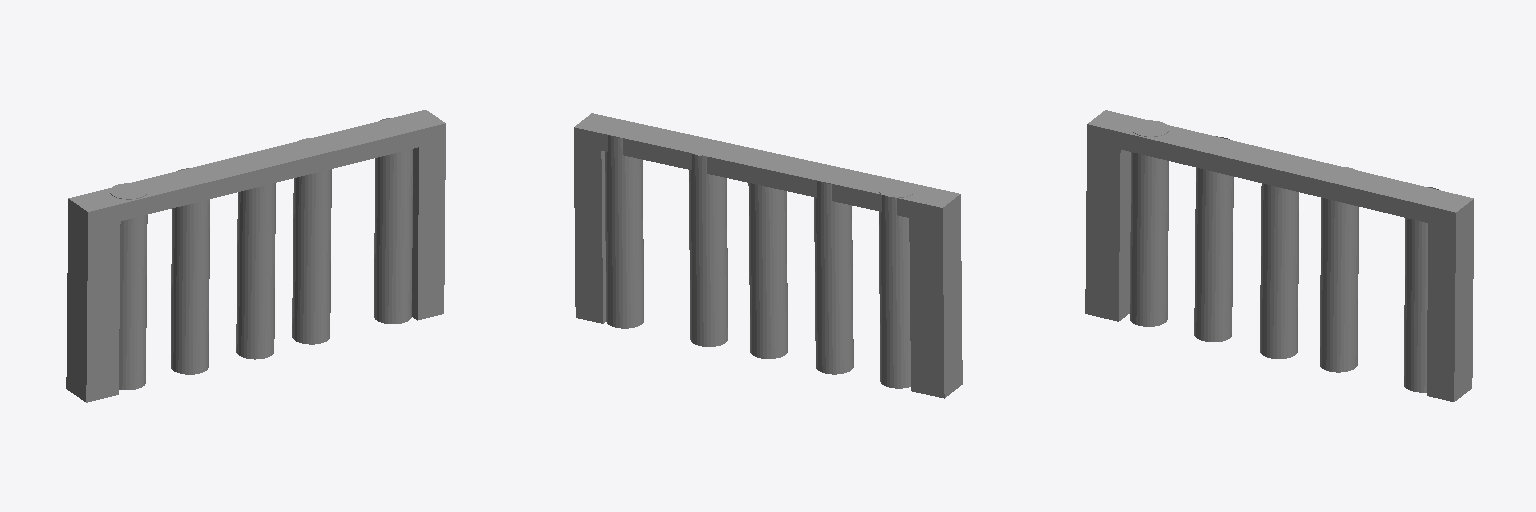
Rendered from Cella.obj.
3 views of the same model, side by side, from view 1: azimuth 30°, elevation 25°; view 2: azimuth 150°, elevation 25°; view 3: azimuth 330°, elevation 25° (orthographic).
Visible parts, largest first — view 1: Cube; view 2: Cube; view 3: Cube.
Part boxes in pixels (x1,y1,x2,y2): Cube: (66,110,445,402); Cube: (574,113,962,398); Cube: (1085,110,1473,401).
Bounding box in the file's own units: 22.16 × 11.23 × 2.63.